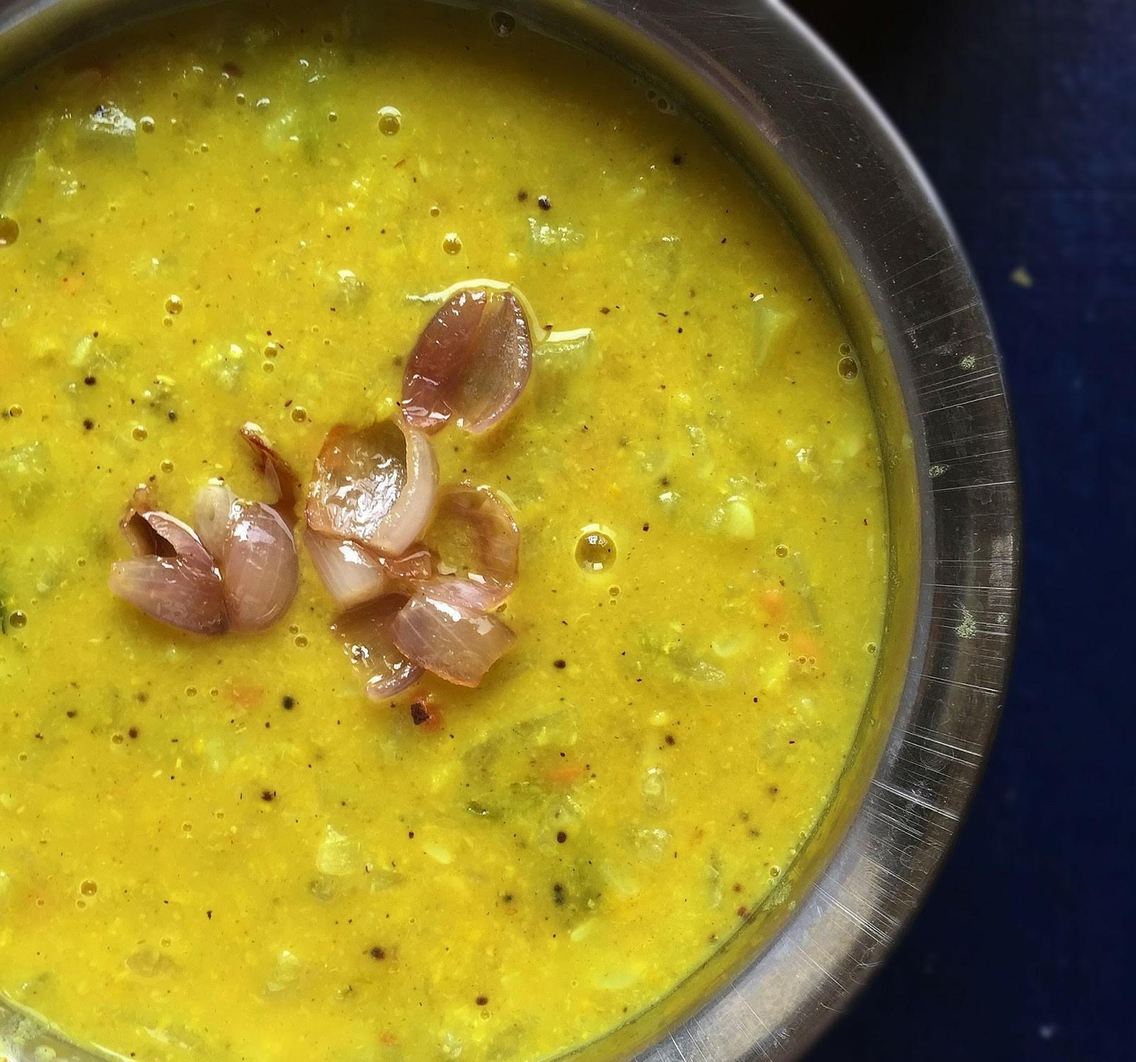Dal: (0, 0, 893, 1062)
